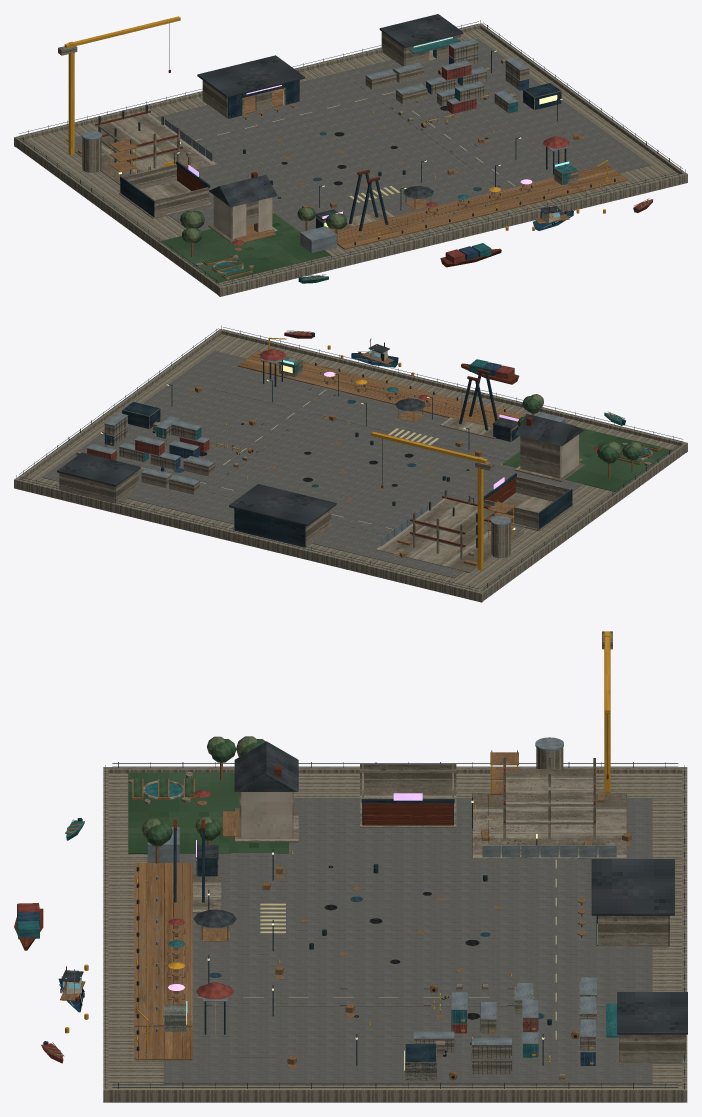
File: harbor-cinematic.glb
3 renders of one model, top to bottom at view 1: azimuth 30°, elevation 25°; view 2: azimuth 150°, elevation 25°; view 3: azimuth 270°, elevation 25°, orthographic. The views are drawn at different scales.
Visible parts, largest first — view 1: base_MESH_asphalt_LOD0, base_MESH_concrete_LOD0, base_MESH_concrete_warm_LOD0, base_MESH_wood_LOD0, base_MESH_foliage_LOD0, dock_MESH_roof_LOD0, base_MESH_steel_navy_LOD0, construction_MESH_concrete_LOD0, container-yard_MESH_steel_galvanized_LOD0, construction_MESH_concrete_warm_LOD0, residential_MESH_plaster_LOD0, construction_MESH_safety_LOD0 (+18 smaller); view 2: base_MESH_asphalt_LOD0, base_MESH_concrete_warm_LOD0, base_MESH_concrete_LOD0, base_MESH_wood_LOD0, dock_MESH_roof_LOD0, base_MESH_foliage_LOD0, construction_MESH_concrete_warm_LOD0, base_MESH_steel_navy_LOD0, construction_MESH_concrete_LOD0, container-yard_MESH_steel_galvanized_LOD0, dock_MESH_steel_navy_LOD0, construction_MESH_safety_LOD0 (+16 smaller); view 3: base_MESH_asphalt_LOD0, base_MESH_concrete_LOD0, base_MESH_concrete_warm_LOD0, base_MESH_wood_LOD0, dock_MESH_roof_LOD0, base_MESH_foliage_LOD0, construction_MESH_concrete_warm_LOD0, construction_MESH_concrete_LOD0, container-yard_MESH_steel_galvanized_LOD0, residential_MESH_roof_LOD0, residential_MESH_plaster_LOD0, base_MESH_steel_navy_LOD0 (+14 smaller).
Boxes of the visible parts, x1,y1,x2,y2 form: base_MESH_asphalt_LOD0: (65,38,650,232); base_MESH_concrete_LOD0: (22,28,678,285); base_MESH_concrete_warm_LOD0: (14,23,687,296); base_MESH_wood_LOD0: (333,165,627,249); base_MESH_foliage_LOD0: (160,213,330,282); dock_MESH_roof_LOD0: (197,14,463,97); base_MESH_steel_navy_LOD0: (19,21,682,285); construction_MESH_concrete_LOD0: (58,46,180,162); container-yard_MESH_steel_galvanized_LOD0: (366,38,529,123); construction_MESH_concrete_warm_LOD0: (74,138,216,185); residential_MESH_plaster_LOD0: (213,195,272,239); construction_MESH_safety_LOD0: (64,16,180,176); base_MESH_asphalt_LOD0: (42,351,582,578); base_MESH_concrete_warm_LOD0: (14,329,687,602); base_MESH_concrete_LOD0: (23,334,679,591); base_MESH_wood_LOD0: (237,350,524,427); dock_MESH_roof_LOD0: (57,452,336,525); base_MESH_foliage_LOD0: (503,427,672,492); construction_MESH_concrete_warm_LOD0: (375,523,524,572); base_MESH_steel_navy_LOD0: (19,327,682,591); construction_MESH_concrete_LOD0: (412,461,494,547); container-yard_MESH_steel_galvanized_LOD0: (87,412,240,485); dock_MESH_steel_navy_LOD0: (234,508,305,547); construction_MESH_safety_LOD0: (371,431,513,570); base_MESH_asphalt_LOD0: (163,798,652,1083); base_MESH_concrete_LOD0: (108,773,682,1087); base_MESH_concrete_warm_LOD0: (103,767,687,1102); base_MESH_wood_LOD0: (134,863,192,1060); dock_MESH_roof_LOD0: (591,859,687,1034); base_MESH_foliage_LOD0: (128,772,288,853); construction_MESH_concrete_warm_LOD0: (472,793,626,858); construction_MESH_concrete_LOD0: (504,631,612,824); container-yard_MESH_steel_galvanized_LOD0: (413,977,597,1071); residential_MESH_roof_LOD0: (234,741,298,791); residential_MESH_plaster_LOD0: (241,792,292,838); base_MESH_steel_navy_LOD0: (105,763,684,1087).
Size of what is drawn, in the model's own units: 119 by 28.6 by 105.
31 materials, 30 textured.
